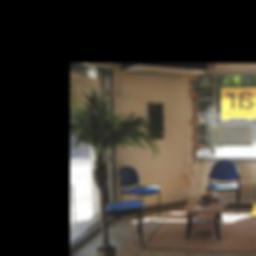Matera: (76, 105, 144, 256)
